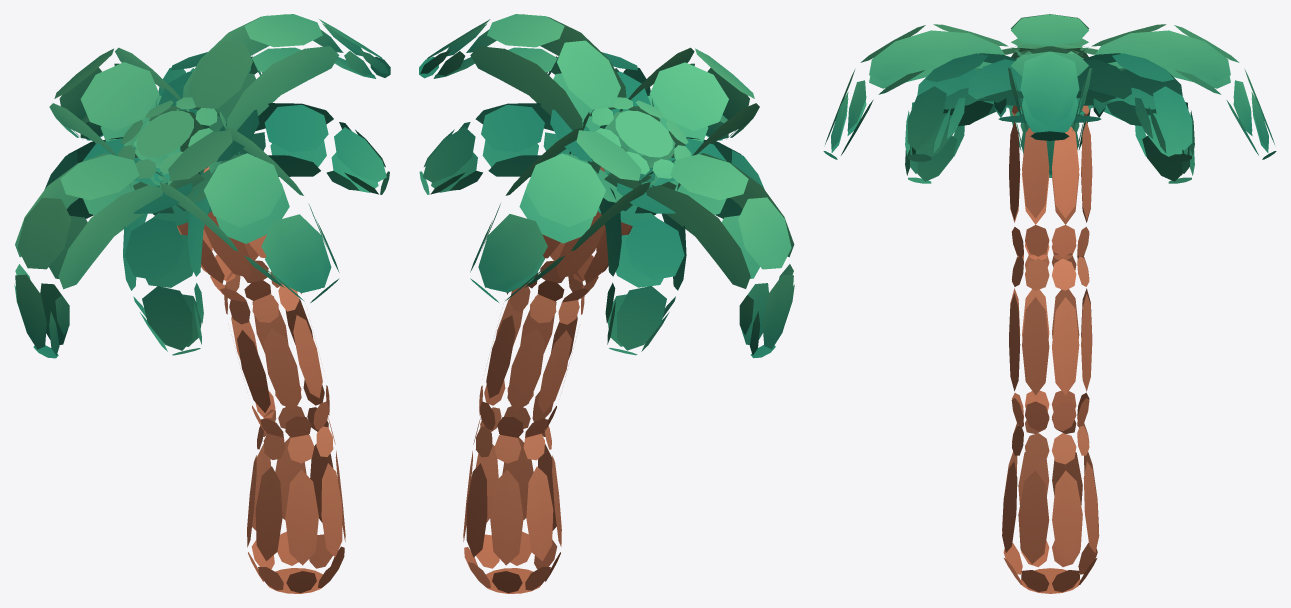
File: palm-detailed-bend.glb
3 renders of one model, left to right at view 1: azimuth 30°, elevation 25°; view 2: azimuth 150°, elevation 25°; view 3: azimuth 270°, elevation 25°, orthographic.
Parts seen in each view (by area): view 1: palm-detailed-bend; view 2: palm-detailed-bend; view 3: palm-detailed-bend.
Part boxes in pixels (x1,y1,x2,y2): palm-detailed-bend: (14,14,390,593); palm-detailed-bend: (419,14,794,593); palm-detailed-bend: (823,14,1276,593).
Bounding box in the file's own units: 2.87 × 4.25 × 3.21.
Materials: 1 (1 with a texture image).
